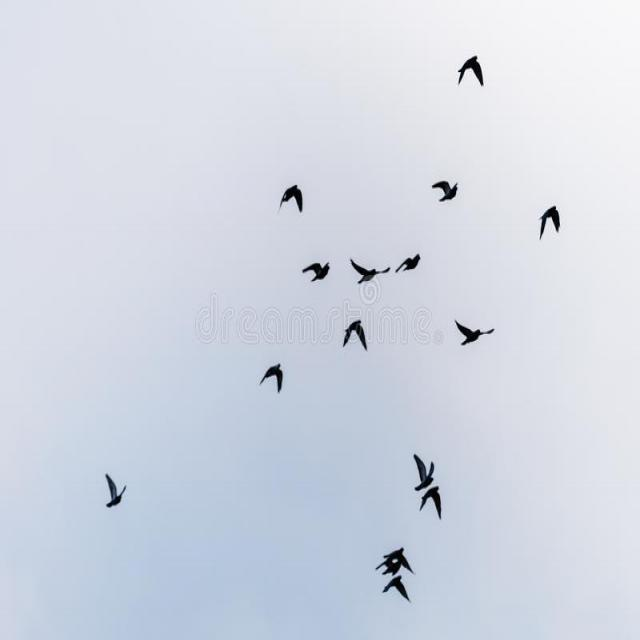bird: (102, 456, 134, 526), (450, 312, 505, 350), (400, 448, 442, 492), (356, 247, 396, 292), (388, 248, 434, 286), (427, 167, 463, 212), (340, 307, 372, 352), (378, 576, 418, 612), (530, 208, 569, 244), (454, 70, 498, 100), (260, 353, 286, 401), (300, 257, 338, 289), (416, 489, 450, 522), (291, 173, 313, 222)
